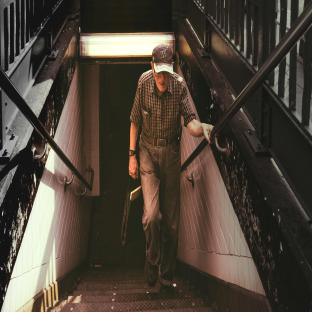Human: (129, 44, 213, 292)
